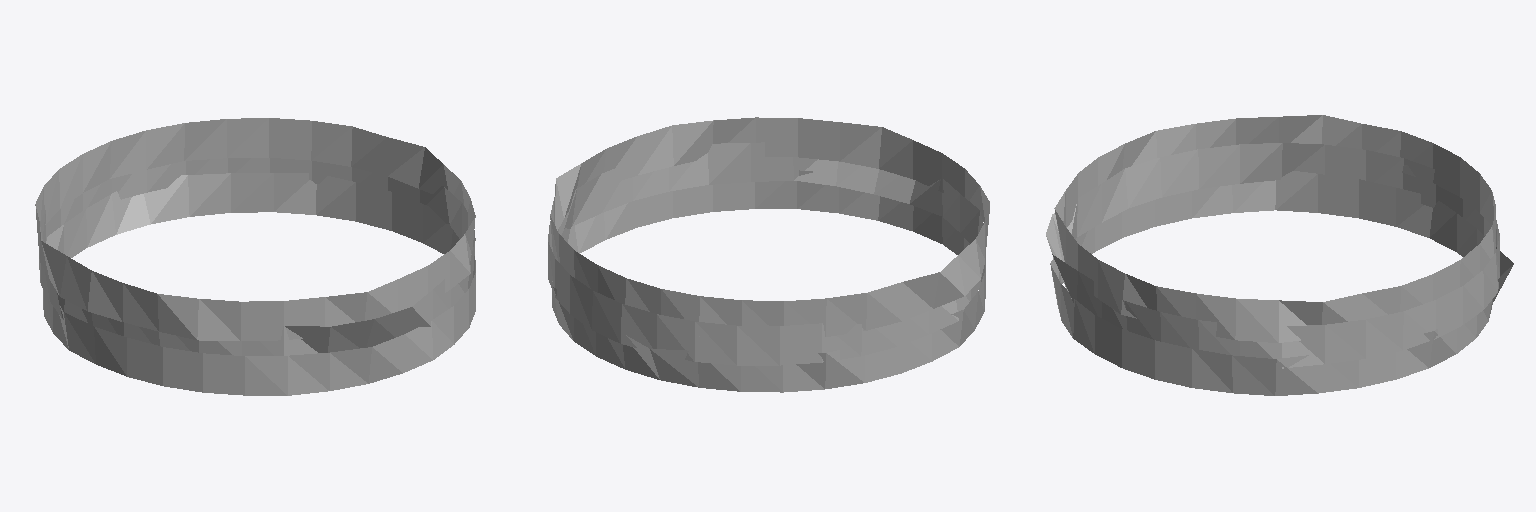
The model's file is rainbow2.obj.
3 views of the same model, side by side, from view 1: azimuth 30°, elevation 25°; view 2: azimuth 150°, elevation 25°; view 3: azimuth 270°, elevation 25° (orthographic).
Parts seen in each view (by area): view 1: Cylinder.002, Cylinder, Cylinder.001; view 2: Cylinder.002, Cylinder.001, Cylinder; view 3: Cylinder, Cylinder.001, Cylinder.002.
Boxes of the visible parts, <box> form: Cylinder.002: <box>35,118,475,340</box>; Cylinder: <box>43,173,475,395</box>; Cylinder.001: <box>39,158,475,355</box>; Cylinder.002: <box>550,117,989,336</box>; Cylinder.001: <box>548,142,983,365</box>; Cylinder: <box>552,170,985,392</box>; Cylinder: <box>1050,171,1513,395</box>; Cylinder.001: <box>1046,143,1499,368</box>; Cylinder.002: <box>1054,115,1495,342</box>.
Bounding box in the file's own units: 4.18 × 0.9504 × 4.31.